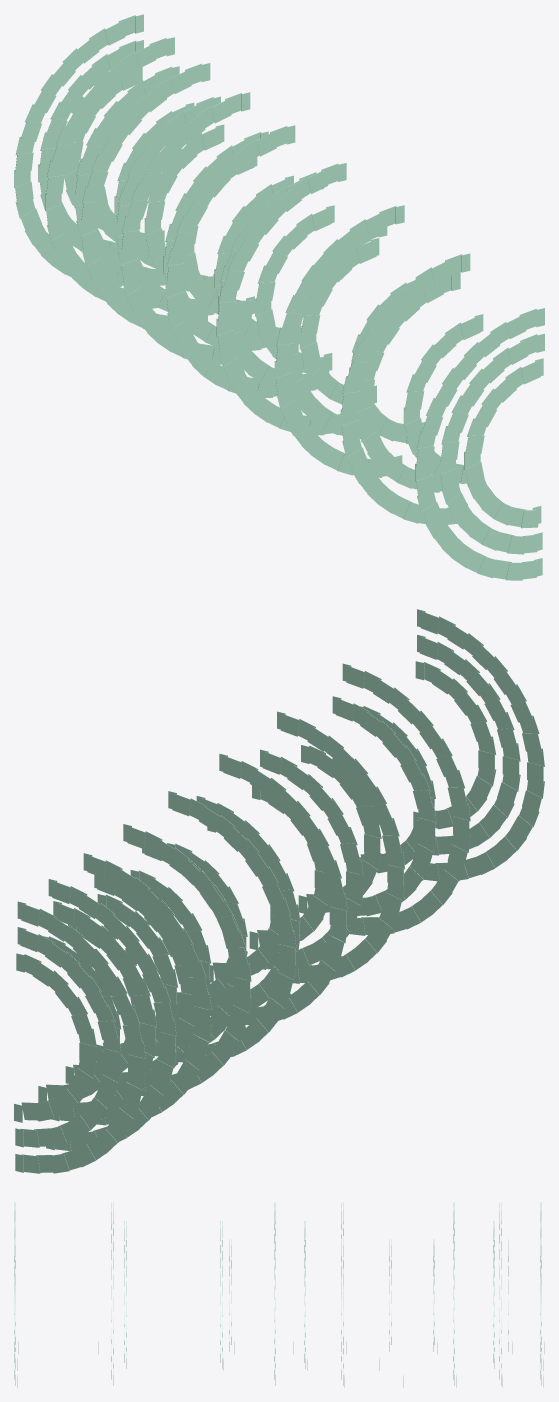
The model's file is ITK-Pixel-Layout-Outer-Endcap-SideA-cut2.glb.
3 renders of one model, top to bottom at view 1: azimuth 30°, elevation 25°; view 2: azimuth 150°, elevation 25°; view 3: azimuth 270°, elevation 25°, orthographic. The views are drawn at different scales.
Parts seen in each view (by area): view 1: ITK_Pixel_Layout_Outer_Endcap_SideA Cut 2; view 2: ITK_Pixel_Layout_Outer_Endcap_SideA Cut 2; view 3: ITK_Pixel_Layout_Outer_Endcap_SideA Cut 2.
Part boxes in pixels (x1,y1,x2,y2): ITK_Pixel_Layout_Outer_Endcap_SideA Cut 2: [14, 14, 544, 580]; ITK_Pixel_Layout_Outer_Endcap_SideA Cut 2: [14, 609, 544, 1173]; ITK_Pixel_Layout_Outer_Endcap_SideA Cut 2: [14, 1202, 544, 1387].
Size of the model in its own units: 0.3155 by 0.6311 by 1.72.
